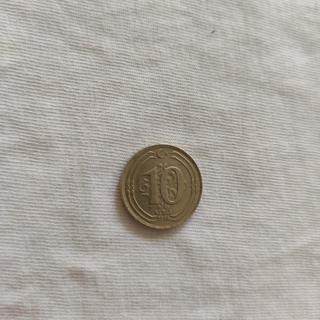10KURUS: (117, 142, 203, 231)
